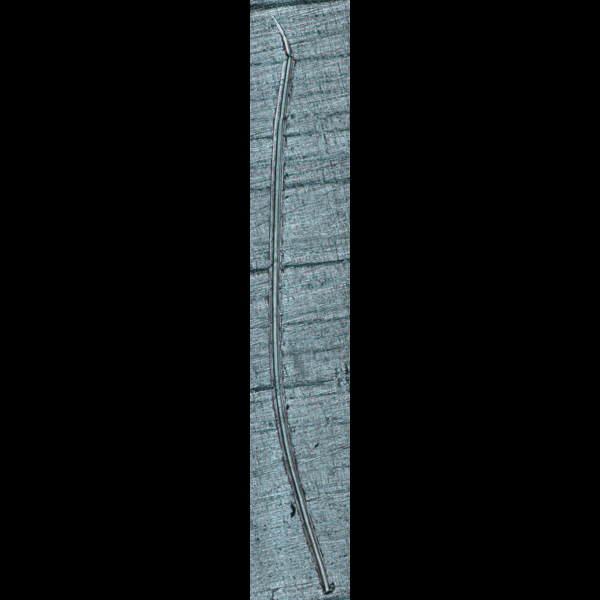d: (264, 11, 339, 596)
